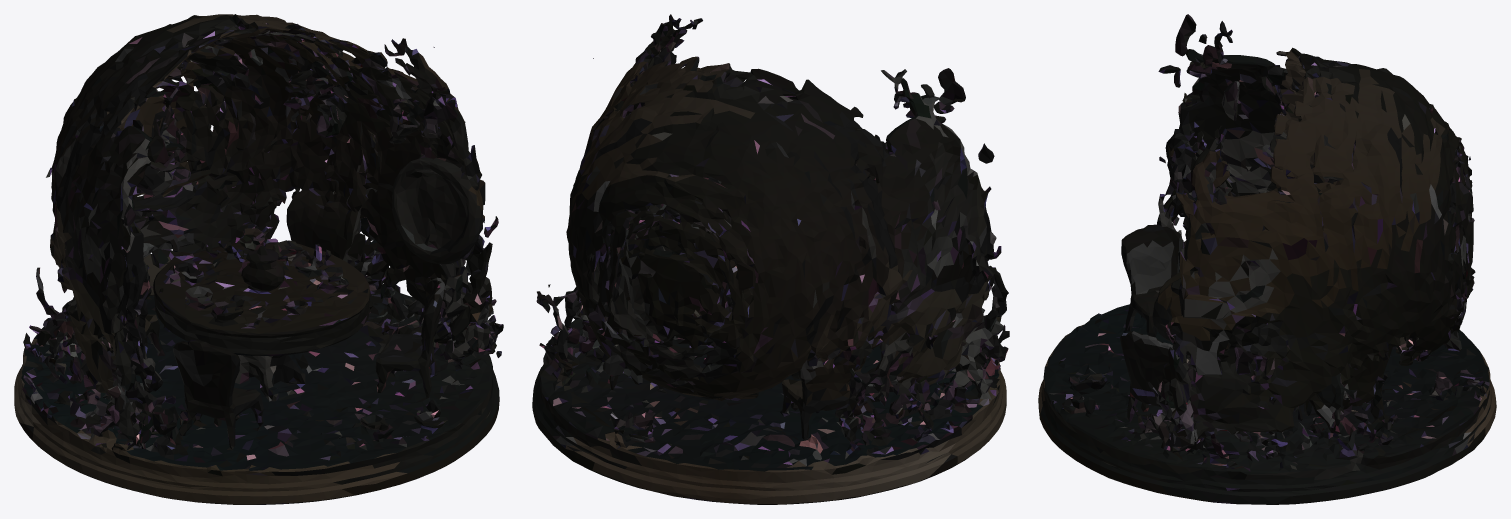
Rendered from mesa-cha-02.glb.
The picture shows the model from 3 angles, left to right: view 1: azimuth 30°, elevation 25°; view 2: azimuth 150°, elevation 25°; view 3: azimuth 270°, elevation 25°; orthographic projection. The views are drawn at different scales.
Parts seen in each view (by area): view 1: SM_Mesa_Cha_02; view 2: SM_Mesa_Cha_02; view 3: SM_Mesa_Cha_02.
Boxes of the visible parts, bbox=[...] form: SM_Mesa_Cha_02: bbox=[14, 14, 503, 504]; SM_Mesa_Cha_02: bbox=[532, 14, 1009, 504]; SM_Mesa_Cha_02: bbox=[1038, 14, 1496, 504].
Size of the model in its own units: 4.89 by 4.01 by 4.88.
Materials: 1 (1 with a texture image).
